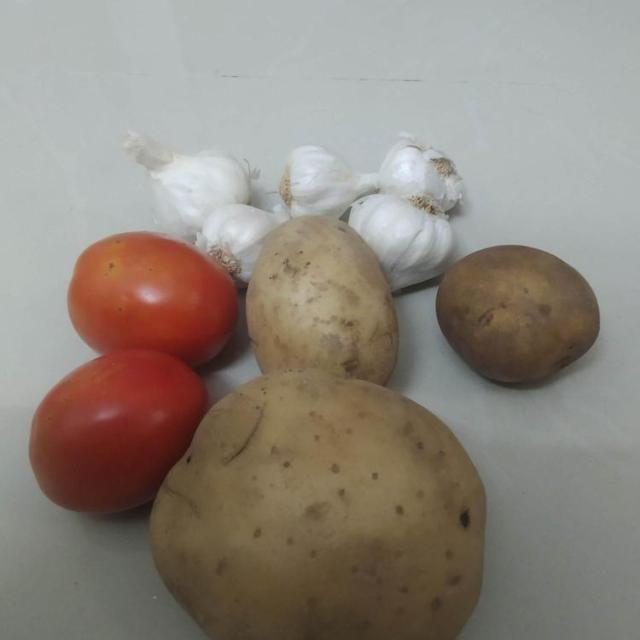Organik: (141, 373, 491, 640), (22, 354, 206, 523), (58, 233, 252, 374), (432, 238, 612, 386), (250, 221, 404, 386), (129, 129, 262, 235), (371, 130, 476, 210), (275, 140, 379, 220)
